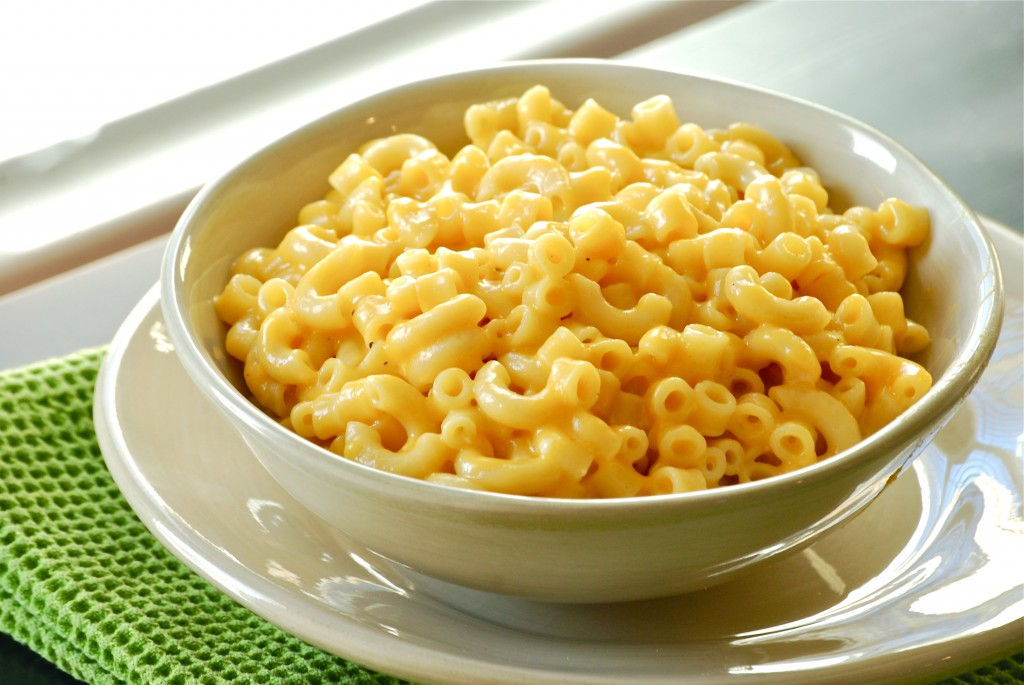macncheese: (237, 78, 945, 500)
